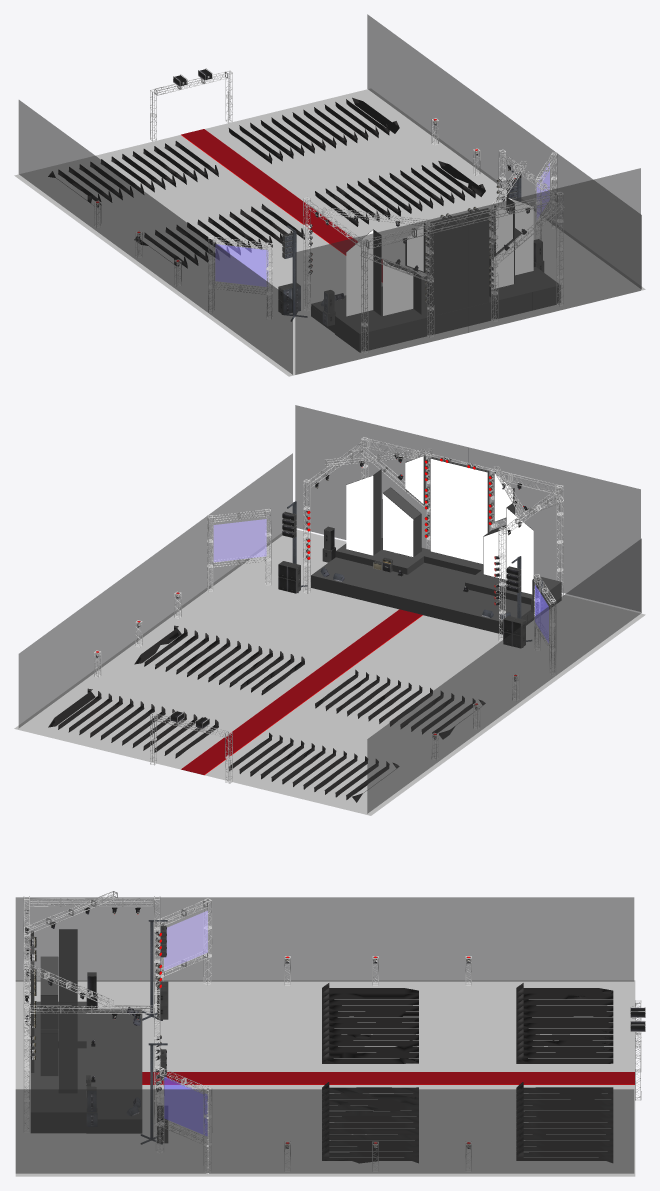
Rendered from stage.glb.
3 renders of one model, top to bottom at view 1: azimuth 30°, elevation 25°; view 2: azimuth 150°, elevation 25°; view 3: azimuth 270°, elevation 25°, orthographic. The views are drawn at different scales.
Visible parts, largest first — view 1: Plane.001_2, Plane.003_74, Plane_66, Cube.008_58, table_67, Cube.015_54, Plane.004_4, pal-tv-testing-2-saad-hasnain_49, Cube.004_64, riging 40cm2.001_5, Cube.003_63, Cube.001_60 (+9 smaller); view 2: Plane.001_2, Plane_66, Plane.003_74, Cube.008_58, table_67, Cube.002_62, Plane.004_4, pal-tv-testing-2-saad-hasnain_49, Cube.004_64, rcf.002_37, Cube.003_63, riging 40cm2.001_5 (+8 smaller); view 3: Plane_66, Plane.001_2, table_67, Plane.004_4, Cube.002_62, Cube.008_58, pal-tv-testing-2-saad-hasnain_49, Cube.003_63, rcf.004_41, rcf.002_37, Cube_52, rcf_29 (+9 smaller).
Part boxes in pixels (bbox=[...]): Plane.001_2: bbox=[14, 88, 645, 376]; Plane.003_74: bbox=[295, 168, 640, 374]; Plane_66: bbox=[18, 14, 641, 374]; Cube.008_58: bbox=[346, 197, 533, 316]; table_67: bbox=[48, 97, 485, 268]; Cube.015_54: bbox=[360, 285, 560, 352]; Plane.004_4: bbox=[181, 129, 382, 282]; pal-tv-testing-2-saad-hasnain_49: bbox=[215, 163, 549, 286]; Cube.004_64: bbox=[335, 304, 430, 352]; riging 40cm2.001_5: bbox=[366, 193, 557, 248]; Cube.003_63: bbox=[489, 267, 558, 301]; Cube.001_60: bbox=[347, 197, 532, 316]; Plane.001_2: bbox=[14, 529, 645, 815]; Plane_66: bbox=[18, 453, 641, 813]; Plane.003_74: bbox=[295, 405, 640, 611]; Cube.008_58: bbox=[346, 455, 533, 594]; table_67: bbox=[48, 625, 485, 802]; Cube.002_62: bbox=[311, 557, 530, 634]; Plane.004_4: bbox=[181, 609, 422, 775]; pal-tv-testing-2-saad-hasnain_49: bbox=[213, 519, 548, 642]; Cube.004_64: bbox=[465, 570, 561, 617]; rcf.002_37: bbox=[278, 561, 525, 648]; Cube.003_63: bbox=[336, 538, 430, 574]; riging 40cm2.001_5: bbox=[366, 438, 559, 493]; Plane_66: bbox=[15, 897, 634, 1173]; Plane.001_2: bbox=[15, 980, 635, 1176]; table_67: bbox=[322, 983, 613, 1163]; Plane.004_4: bbox=[142, 1072, 634, 1084]; Cube.002_62: bbox=[86, 1009, 142, 1133]; Cube.008_58: bbox=[31, 929, 77, 1093]; pal-tv-testing-2-saad-hasnain_49: bbox=[164, 910, 207, 1135]; Cube.003_63: bbox=[31, 1073, 86, 1133]; rcf.004_41: bbox=[140, 920, 167, 1144]; rcf.002_37: bbox=[157, 981, 168, 1143]; Cube_52: bbox=[49, 1112, 86, 1133]; rcf_29: bbox=[86, 972, 97, 1126].
Size of the model in its own units: 30 by 9.92 by 40.79.
10 materials, 1 textured.
